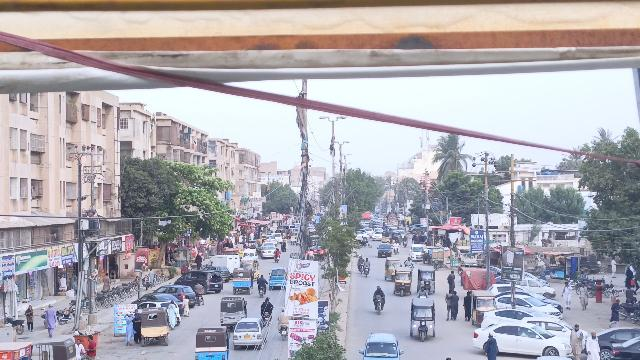Bike: (373, 296, 385, 317), (279, 325, 288, 342), (262, 311, 272, 326), (257, 286, 265, 299)
Car: (470, 322, 572, 356), (231, 316, 269, 349), (358, 331, 404, 358), (268, 265, 288, 291)
Person: (566, 318, 584, 356), (42, 301, 60, 337), (480, 328, 500, 360), (586, 327, 602, 360), (576, 280, 590, 309), (560, 279, 573, 310), (122, 311, 133, 347), (442, 289, 454, 320), (131, 308, 141, 344), (461, 290, 472, 322), (450, 290, 461, 320), (445, 269, 458, 292), (276, 307, 289, 326), (260, 296, 274, 313), (256, 272, 268, 286), (374, 287, 385, 300)
Rickshaw: (407, 297, 439, 344), (192, 323, 232, 360), (139, 306, 171, 347), (470, 290, 498, 327), (217, 294, 247, 327), (230, 266, 255, 295), (415, 265, 437, 296), (390, 267, 413, 296), (381, 256, 402, 283)
